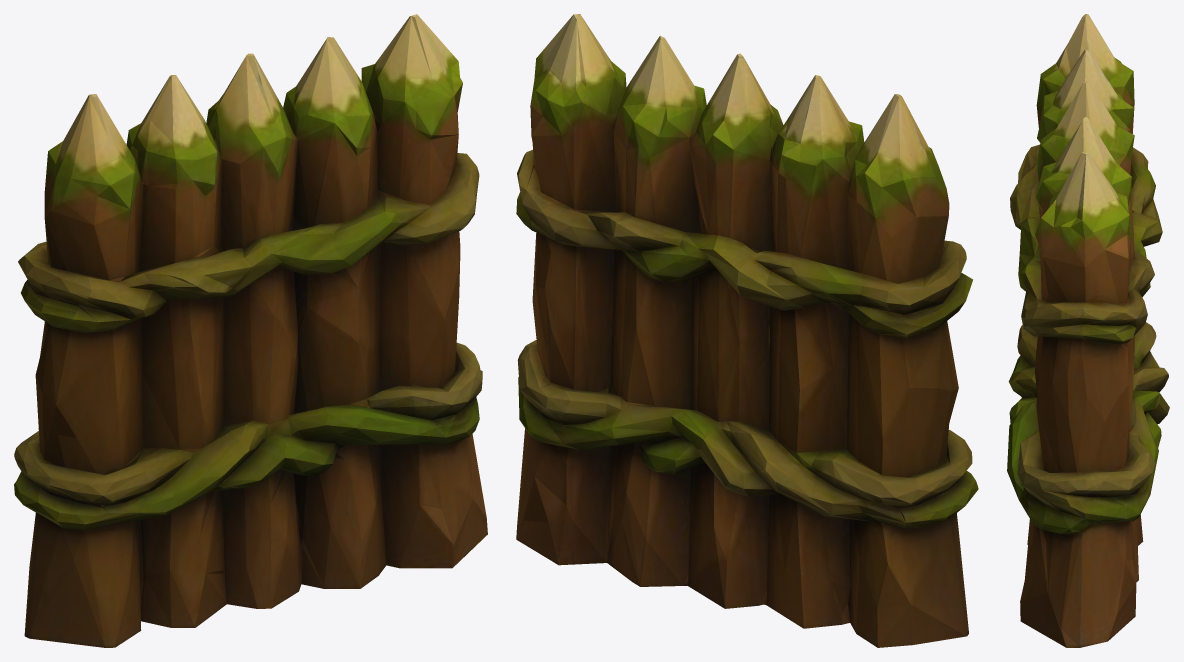
Rendered from racines_barriere.glb.
3 views of the same model, side by side, from view 1: azimuth 30°, elevation 25°; view 2: azimuth 150°, elevation 25°; view 3: azimuth 270°, elevation 25° (orthographic). The views are drawn at different scales.
Visible parts, largest first — view 1: geometry_0; view 2: geometry_0; view 3: geometry_0.
Part boxes in pixels (x1,y1,x2,y2): geometry_0: (14,14,487,647); geometry_0: (516,14,978,647); geometry_0: (1007,14,1169,647).
Bounding box in the file's own units: 0.8973 × 0.9992 × 0.3149.
1 material, 1 textured.
